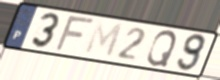2: (115, 27, 147, 63)
3: (30, 11, 62, 50)
9: (174, 33, 207, 74)
F: (52, 15, 97, 53)
M: (82, 19, 125, 60)
Q: (145, 29, 179, 68)
